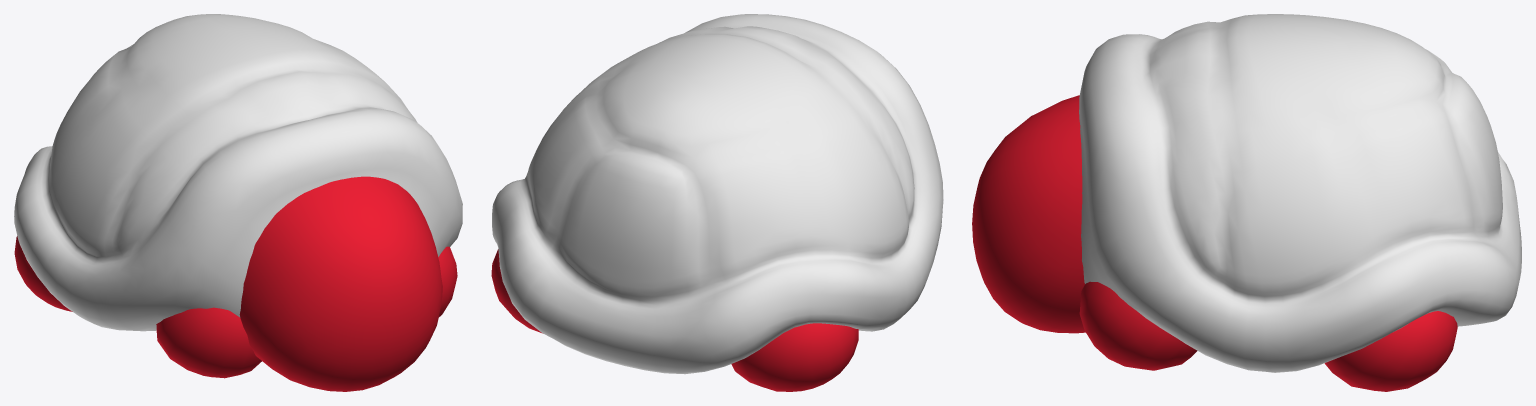
Rendered from SM_Turtle_01.fbx.
The picture shows the model from 3 angles, left to right: view 1: azimuth 30°, elevation 25°; view 2: azimuth 150°, elevation 25°; view 3: azimuth 270°, elevation 25°; orthographic projection. The views are drawn at different scales.
Visible parts, largest first — view 1: SM_Turtle_01; view 2: SM_Turtle_01; view 3: SM_Turtle_01.
Boxes of the visible parts, box(x1,y1,x2,y2) form: SM_Turtle_01: box(14, 14, 462, 391); SM_Turtle_01: box(491, 14, 943, 391); SM_Turtle_01: box(972, 14, 1521, 391).
Size of the model in its own units: 85.91 by 58.58 by 100.
